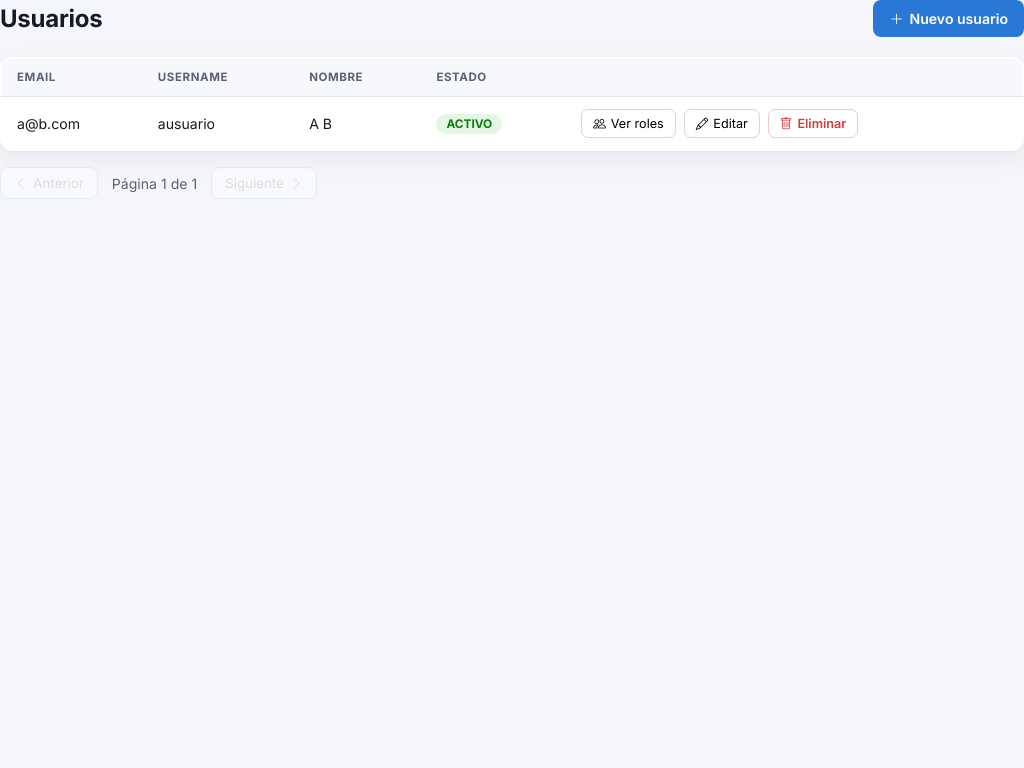
UsersPage › muestra el error del backend si falla la creación
Expected: the text "a@b.com" is shown, [0,96,142,150]
Step 1. Click the button "Nuevo usuario" → click(949, 18), box [873,0,1023,37]
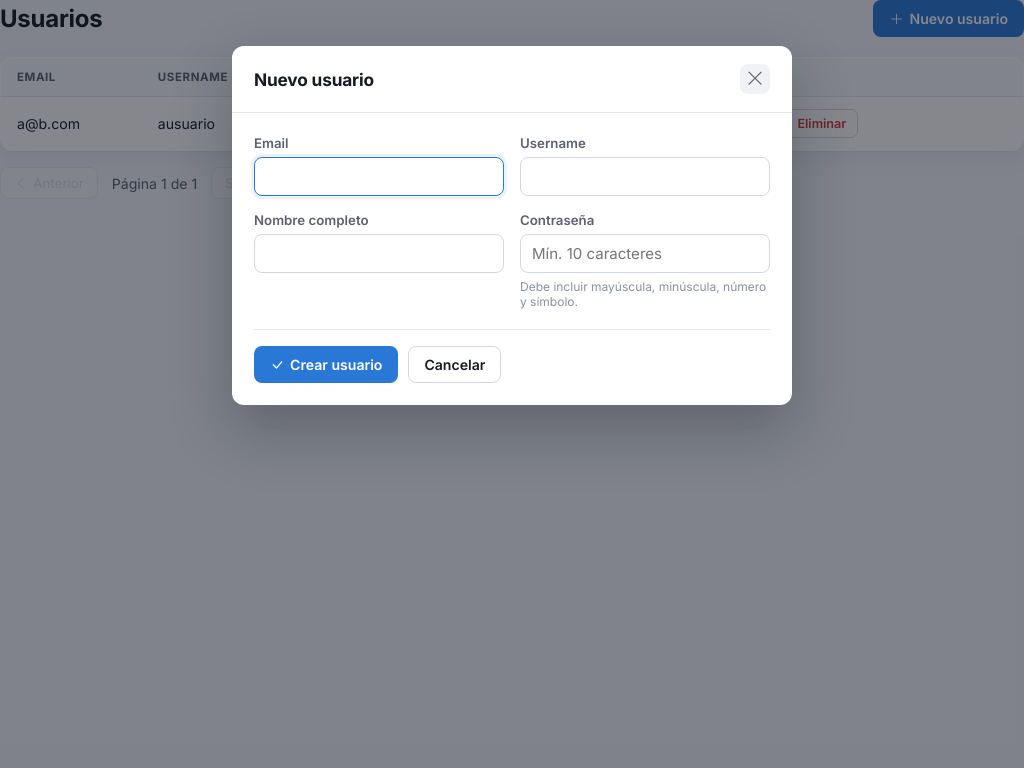
Step 2. Click the button "Crear usuario" → click(326, 365), box [254,346,398,383]
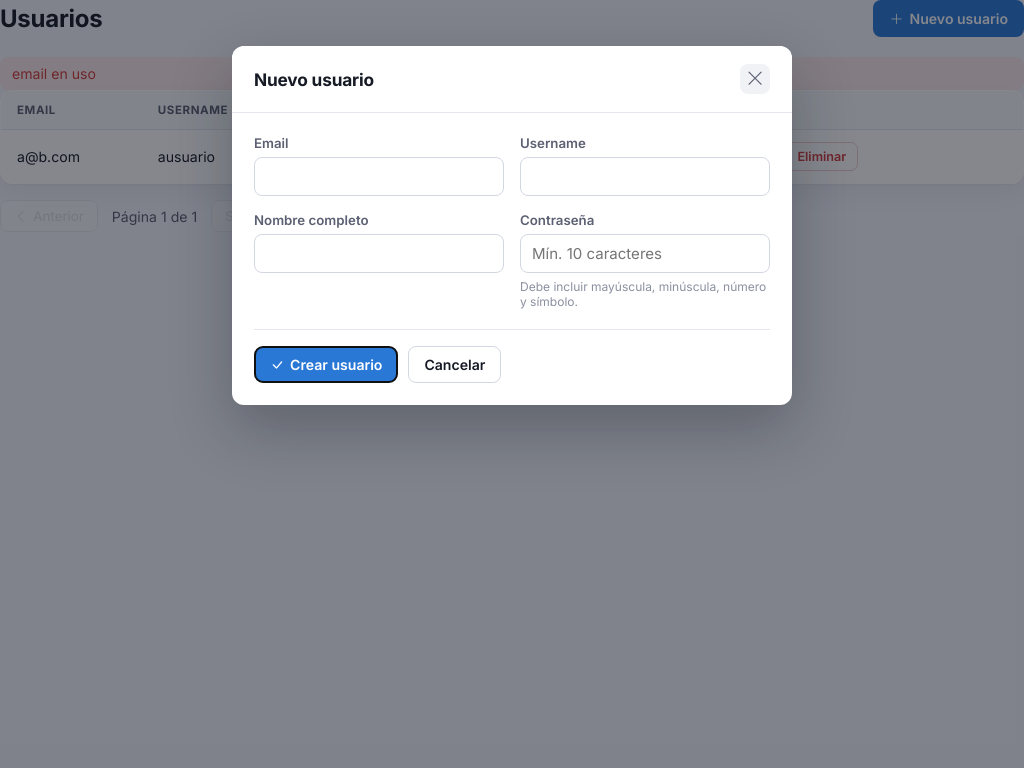
Now the text "email en uso" is shown, box [0,57,1023,90]
